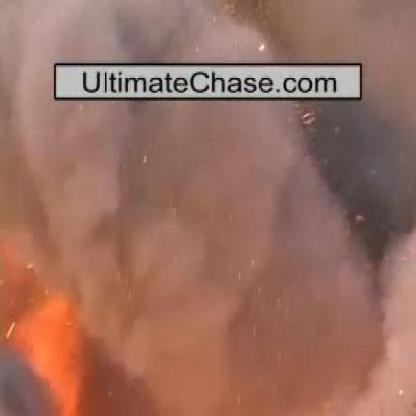-: (6, 109, 370, 309), (36, 0, 344, 60)
